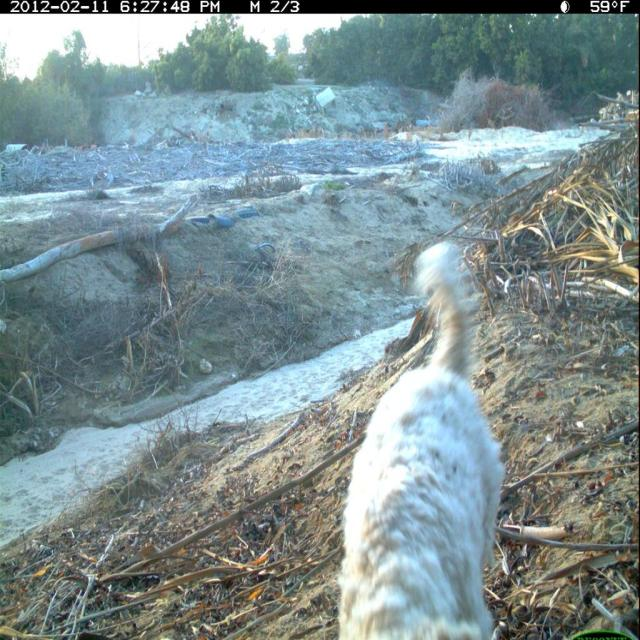dog: (334, 237, 513, 640)
